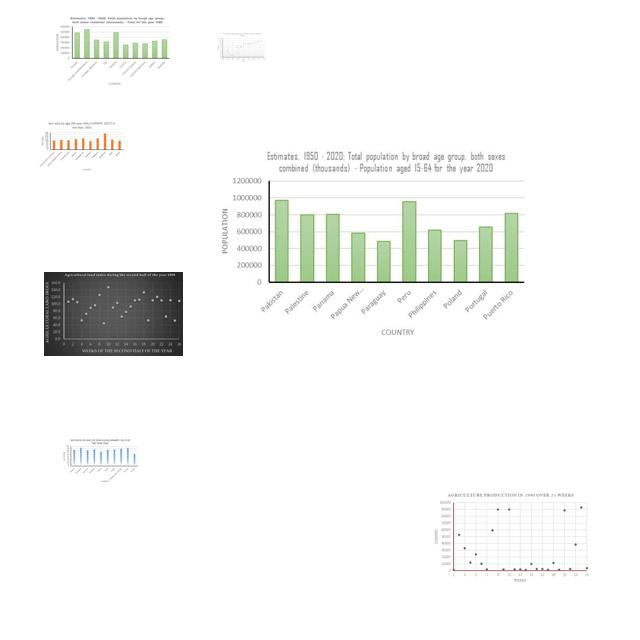Graph: (210, 145, 531, 337), (433, 492, 592, 584), (44, 272, 183, 356), (52, 15, 172, 86), (38, 120, 124, 172), (61, 438, 139, 483), (216, 32, 266, 62)
